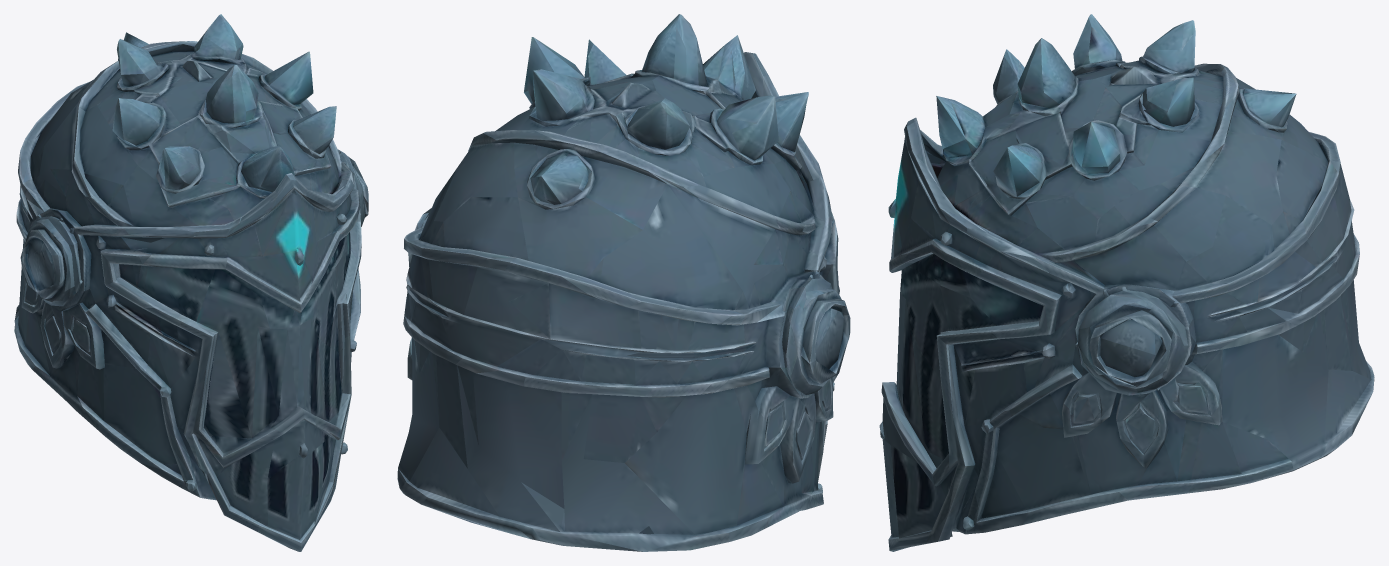
Rendered from mx_gr_ice_helm.glb.
3 renders of one model, left to right at view 1: azimuth 30°, elevation 25°; view 2: azimuth 150°, elevation 25°; view 3: azimuth 270°, elevation 25°, orthographic. The views are drawn at different scales.
Bounding box in the file's own units: 1.45 × 1.9 × 1.66.
Materials: 1 (1 with a texture image).
